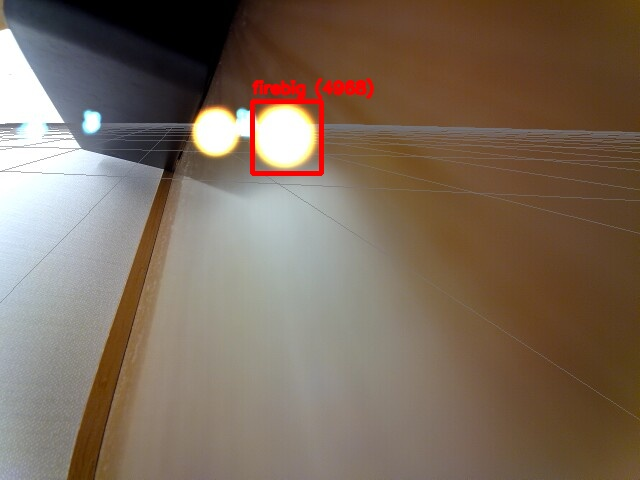firebig: (252, 101, 321, 173)
